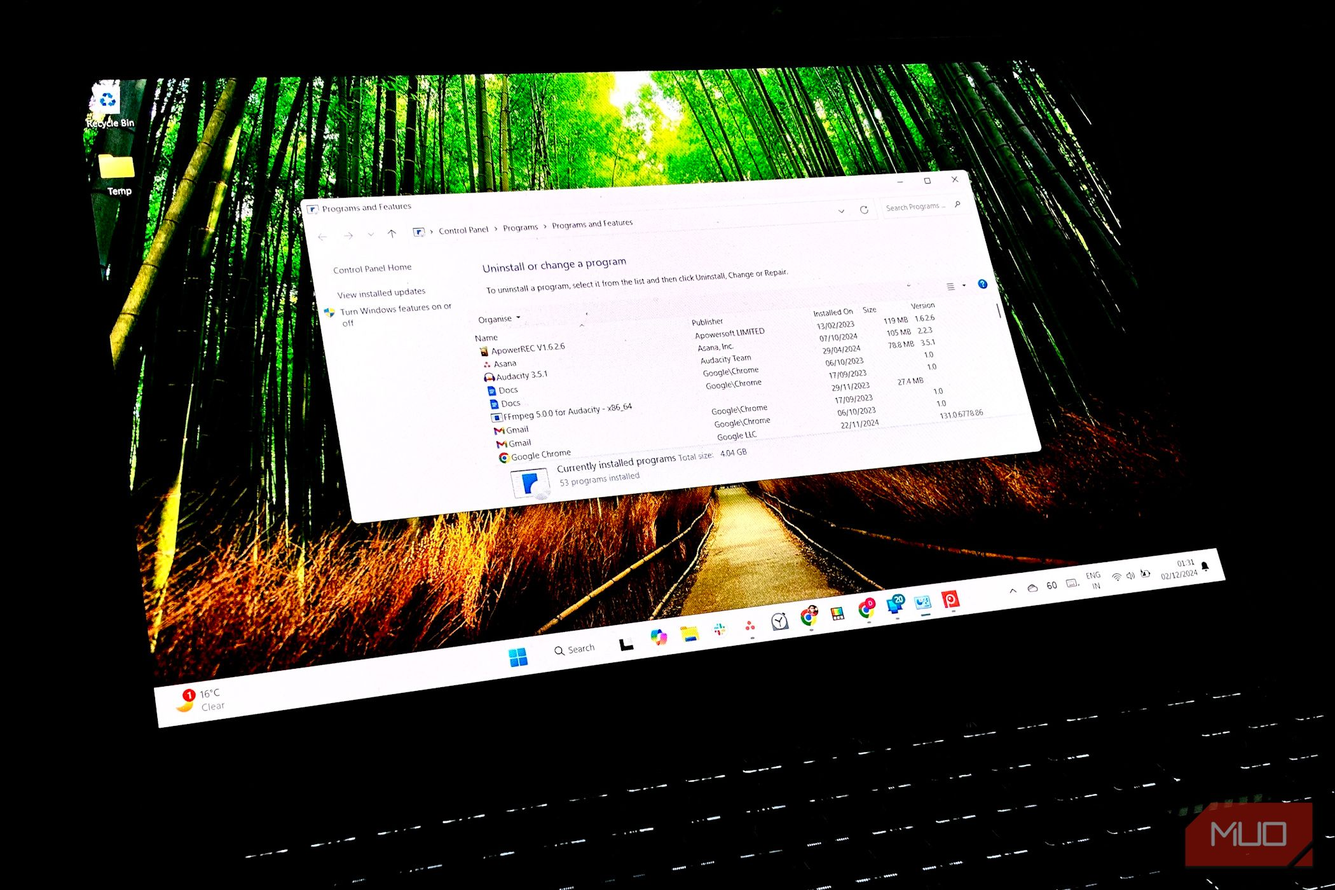laptop: (48, 58, 1335, 890)
